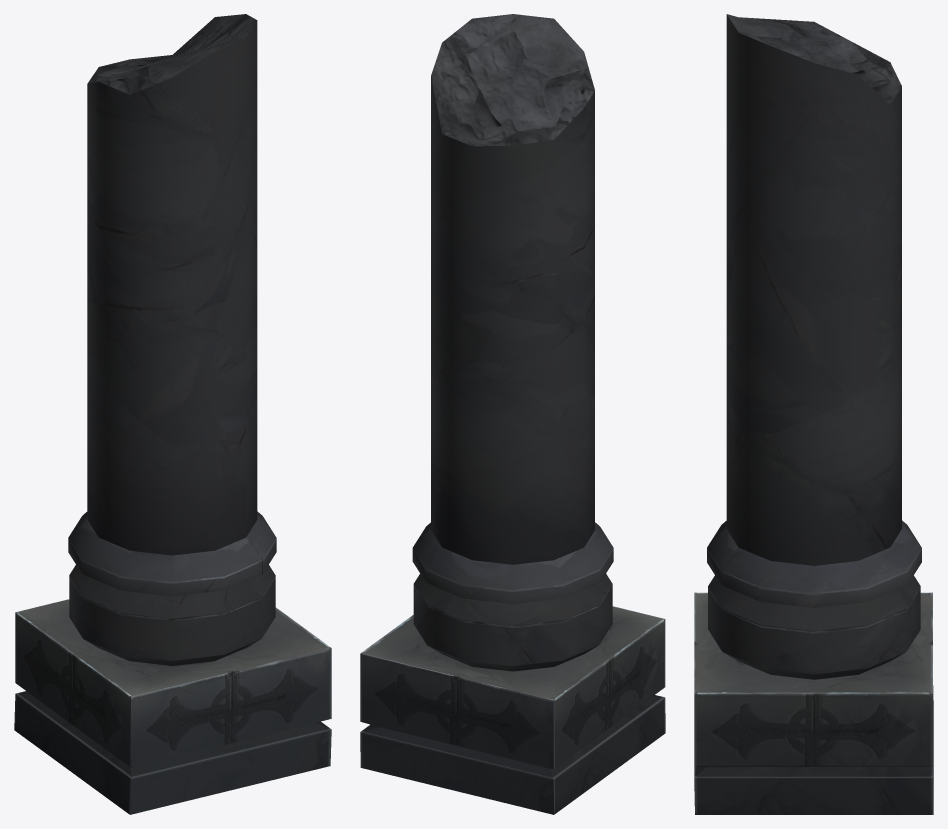
File: object_pillar_origin.FBX
3 renders of one model, left to right at view 1: azimuth 30°, elevation 25°; view 2: azimuth 150°, elevation 25°; view 3: azimuth 270°, elevation 25°, orthographic. The views are drawn at different scales.
Parts seen in each view (by area): view 1: objPillar; view 2: objPillar; view 3: objPillar.
Part boxes in pixels (x1,y1,x2,y2): objPillar: [14, 14, 331, 814]; objPillar: [360, 14, 665, 814]; objPillar: [694, 14, 933, 814].
Bounding box in the file's own units: 142 × 490 × 142.
Materials: 1 (1 with a texture image).
